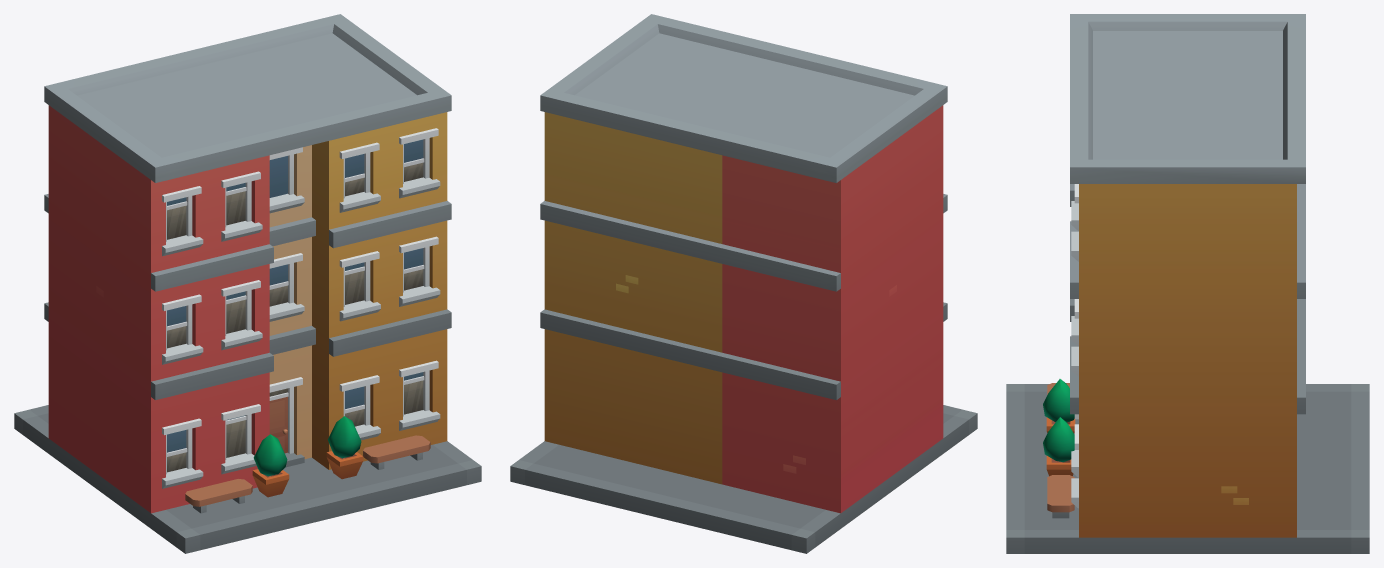
The model's file is house3.glb.
The picture shows the model from 3 angles, left to right: view 1: azimuth 30°, elevation 25°; view 2: azimuth 150°, elevation 25°; view 3: azimuth 270°, elevation 25°; orthographic projection. The views are drawn at different scales.
Visible parts, largest first — view 1: building_F; view 2: building_F; view 3: building_F.
Part boxes in pixels (left/top/right/bottom): building_F: left=14, top=14, right=481, bottom=553; building_F: left=510, top=14, right=977, bottom=553; building_F: left=1006, top=14, right=1369, bottom=553.
Size of the model in its own units: 2.01 by 2.35 by 2.
1 material, 1 textured.
